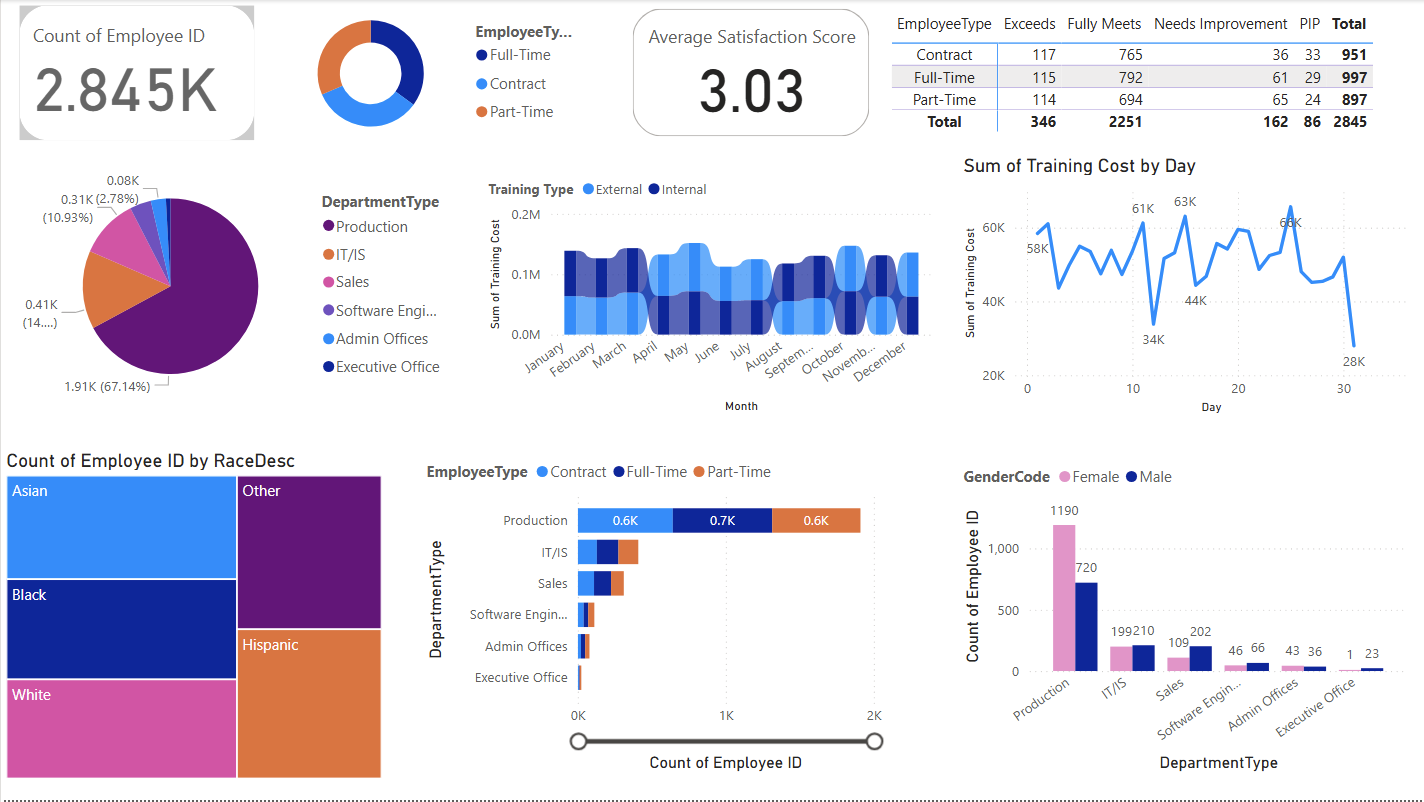

What the dashboard file says about the page in this screenshot:
{"tool":"powerbi","page":{"name":"Page 1","canvas":[1280,720],"ordinal":0},"visuals":[{"type":"barChart","fields":{"Category":["HR.DepartmentType"],"Y":["CountNonNull(HR.Employee ID)"],"Series":["HR.EmployeeType"]},"box":[377.8,403.9,427.3,295],"z":0},{"type":"pieChart","fields":{"Category":["HR.DepartmentType"],"Y":["CountNonNull(HR.Employee ID)"]},"box":[11.4,138.7,398.6,237.9],"z":1},{"type":"cardVisual","fields":{"Data":["CountNonNull(HR.Employee ID)"]},"box":[11.4,0,221.2,131.7],"z":2},{"type":"cardVisual","fields":{"Data":["HR.Average Satisfaction Score"]},"box":[563.1,2.7,224,125],"z":3},{"type":"donutChart","fields":{"Category":["HR.EmployeeType"],"Y":["CountNonNull(HR.Employee ID)"]},"box":[238.8,6.1,278.3,119.4],"z":4},{"type":"lineChart","fields":{"Category":["HR.Training Date.Variation.Date Hierarchy.Day"],"Y":["Sum(HR.Training Cost)"]},"box":[861.2,138.7,409.1,237.9],"z":5},{"type":"clusteredColumnChart","fields":{"Category":["HR.DepartmentType"],"Y":["CountNonNull(HR.Employee ID)"],"Series":["HR.GenderCode"]},"box":[860.8,408.4,409.3,290.5],"z":6},{"type":"pivotTable","fields":{"Rows":["HR.EmployeeType"],"Columns":["HR.Performance Score"],"Values":["CountNonNull(HR.Employee ID)"]},"box":[796.1,6.3,474,125],"z":7},{"type":"ribbonChart","fields":{"Category":["HR.Training Date.Variation.Date Hierarchy.Month","HR.Training Date.Variation.Date Hierarchy.Day"],"Y":["Sum(HR.Training Cost)"],"Series":["HR.Training Type"]},"box":[433.6,150.2,408.4,225.8],"z":8},{"type":"treemap","fields":{"Group":["HR.RaceDesc"],"Values":["CountNonNull(HR.Employee ID)"]},"box":[0,403.9,347.2,301.3],"z":9}]}

Visuals, with their boxes in screenshot pixels (x1, y1, x2, y2), scaled from the page's 1280x720 canvas onto the 1424x802 screenshot:
barChart - HR.DepartmentType x CountNonNull(HR.Employee ID): region(420, 450, 896, 778)
pieChart - HR.DepartmentType x CountNonNull(HR.Employee ID): region(13, 154, 456, 419)
cardVisual - CountNonNull(HR.Employee ID): region(13, 0, 259, 147)
cardVisual - HR.Average Satisfaction Score: region(626, 3, 876, 142)
donutChart - HR.EmployeeType x CountNonNull(HR.Employee ID): region(266, 7, 575, 140)
lineChart - HR.Training Date.Variation.Date Hierarchy.Day x Sum(HR.Training Cost): region(958, 154, 1413, 419)
clusteredColumnChart - HR.DepartmentType x CountNonNull(HR.Employee ID): region(958, 455, 1413, 778)
pivotTable - HR.EmployeeType x HR.Performance Score: region(886, 7, 1413, 146)
ribbonChart - HR.Training Date.Variation.Date Hierarchy.Month x HR.Training Date.Variation.Date Hierarchy.Day: region(482, 167, 937, 419)
treemap - HR.RaceDesc x CountNonNull(HR.Employee ID): region(0, 450, 386, 786)
